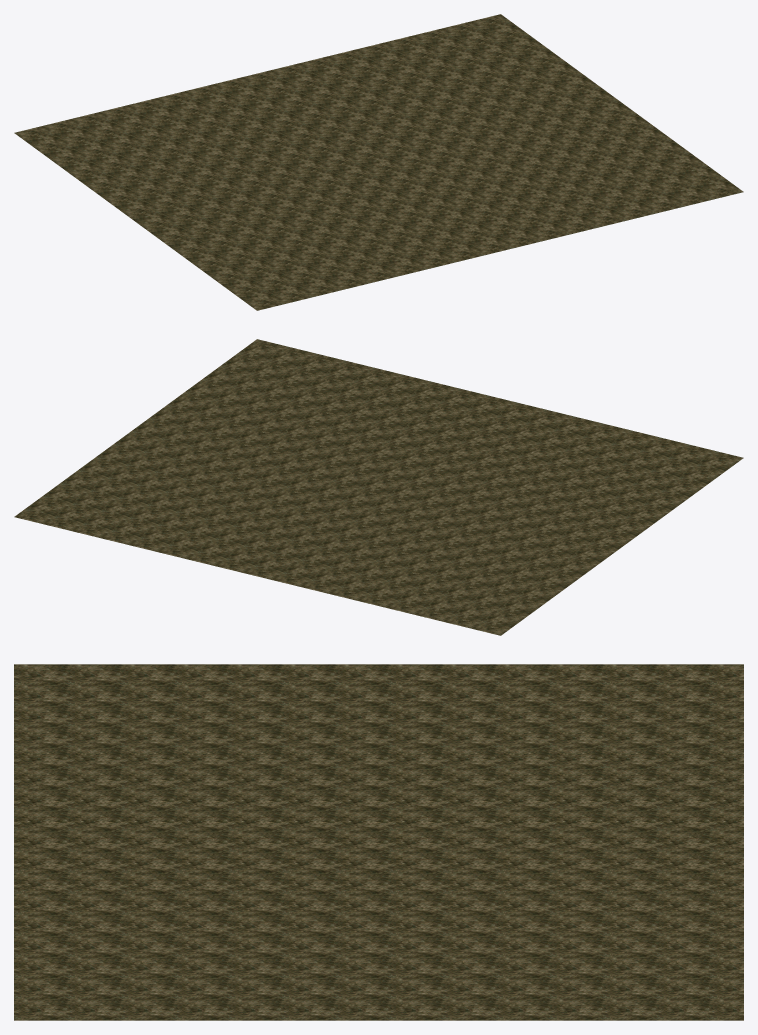
The model's file is CB_NEWPLAYSURFACE_CB_LAKEBOTTOM.fbx.
3 views of the same model, one above another, from view 1: azimuth 30°, elevation 25°; view 2: azimuth 150°, elevation 25°; view 3: azimuth 270°, elevation 25° (orthographic). The views are drawn at different scales.
Visible parts, largest first — view 1: CB_NEWPLAYSURFACE_CB_LAKEBOTTOM; view 2: CB_NEWPLAYSURFACE_CB_LAKEBOTTOM; view 3: CB_NEWPLAYSURFACE_CB_LAKEBOTTOM.
Part boxes in pixels (<box>): CB_NEWPLAYSURFACE_CB_LAKEBOTTOM: <box>14,14,743,310</box>; CB_NEWPLAYSURFACE_CB_LAKEBOTTOM: <box>14,339,743,635</box>; CB_NEWPLAYSURFACE_CB_LAKEBOTTOM: <box>14,664,743,1020</box>.
Bounding box in the file's own units: 1306207 × 0.2329 × 1129909.
1 material, 1 textured.
